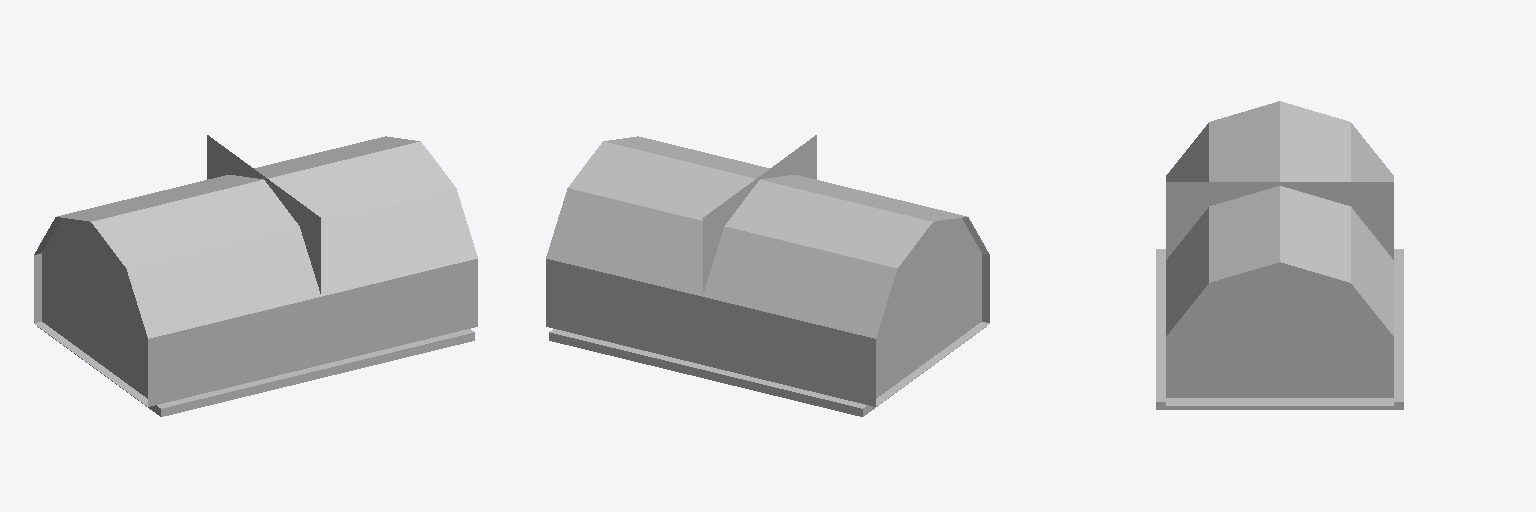
File: lobster_trap_1.obj
The picture shows the model from 3 angles: view 1: azimuth 30°, elevation 25°; view 2: azimuth 150°, elevation 25°; view 3: azimuth 270°, elevation 25°; orthographic projection.
Parts seen in each view (by area): view 1: cover_outside, cover_inside, underneath, middle; view 2: cover_outside, cover_inside, underneath, middle; view 3: cover_outside, cover_inside, middle, underneath.
Part boxes in pixels (bbox=[...]): cover_outside: bbox=[34, 136, 477, 406]; cover_inside: bbox=[34, 140, 477, 405]; underneath: bbox=[37, 326, 474, 416]; middle: bbox=[207, 135, 320, 293]; cover_outside: bbox=[546, 136, 989, 406]; cover_inside: bbox=[546, 136, 989, 406]; underneath: bbox=[549, 326, 986, 416]; middle: bbox=[703, 135, 816, 293]; cover_outside: bbox=[1166, 101, 1393, 405]; cover_inside: bbox=[1166, 102, 1393, 405]; middle: bbox=[1166, 182, 1393, 259]; underneath: bbox=[1156, 249, 1403, 409].
Size of the model in its own units: 1.25 by 0.5625 by 0.8125.